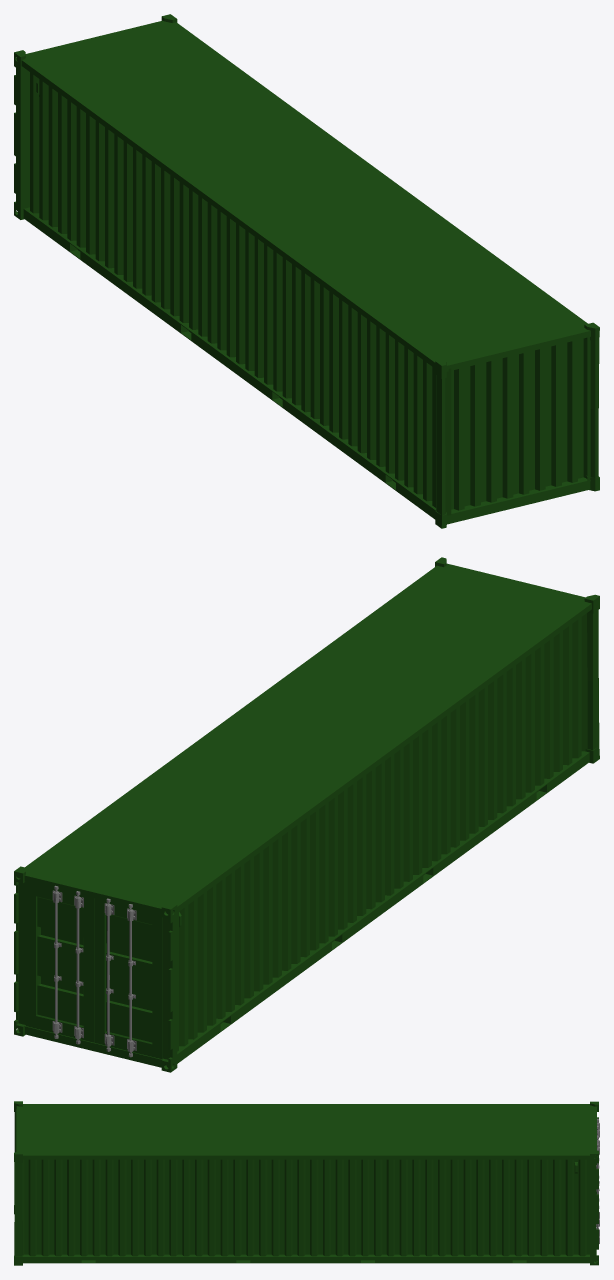
File: Container.fbx
3 views of the same model, one above another, from view 1: azimuth 30°, elevation 25°; view 2: azimuth 150°, elevation 25°; view 3: azimuth 270°, elevation 25° (orthographic). The views are drawn at different scales.
Parts seen in each view (by area): view 1: Container; view 2: Container; view 3: Container.
Part boxes in pixels (x1=…): Container: x1=14, y1=14, x2=599, y2=528; Container: x1=14, y1=557, x2=599, y2=1072; Container: x1=14, y1=1101, x2=599, y2=1265.
Size of the model in its own units: 263 by 259 by 1234.
